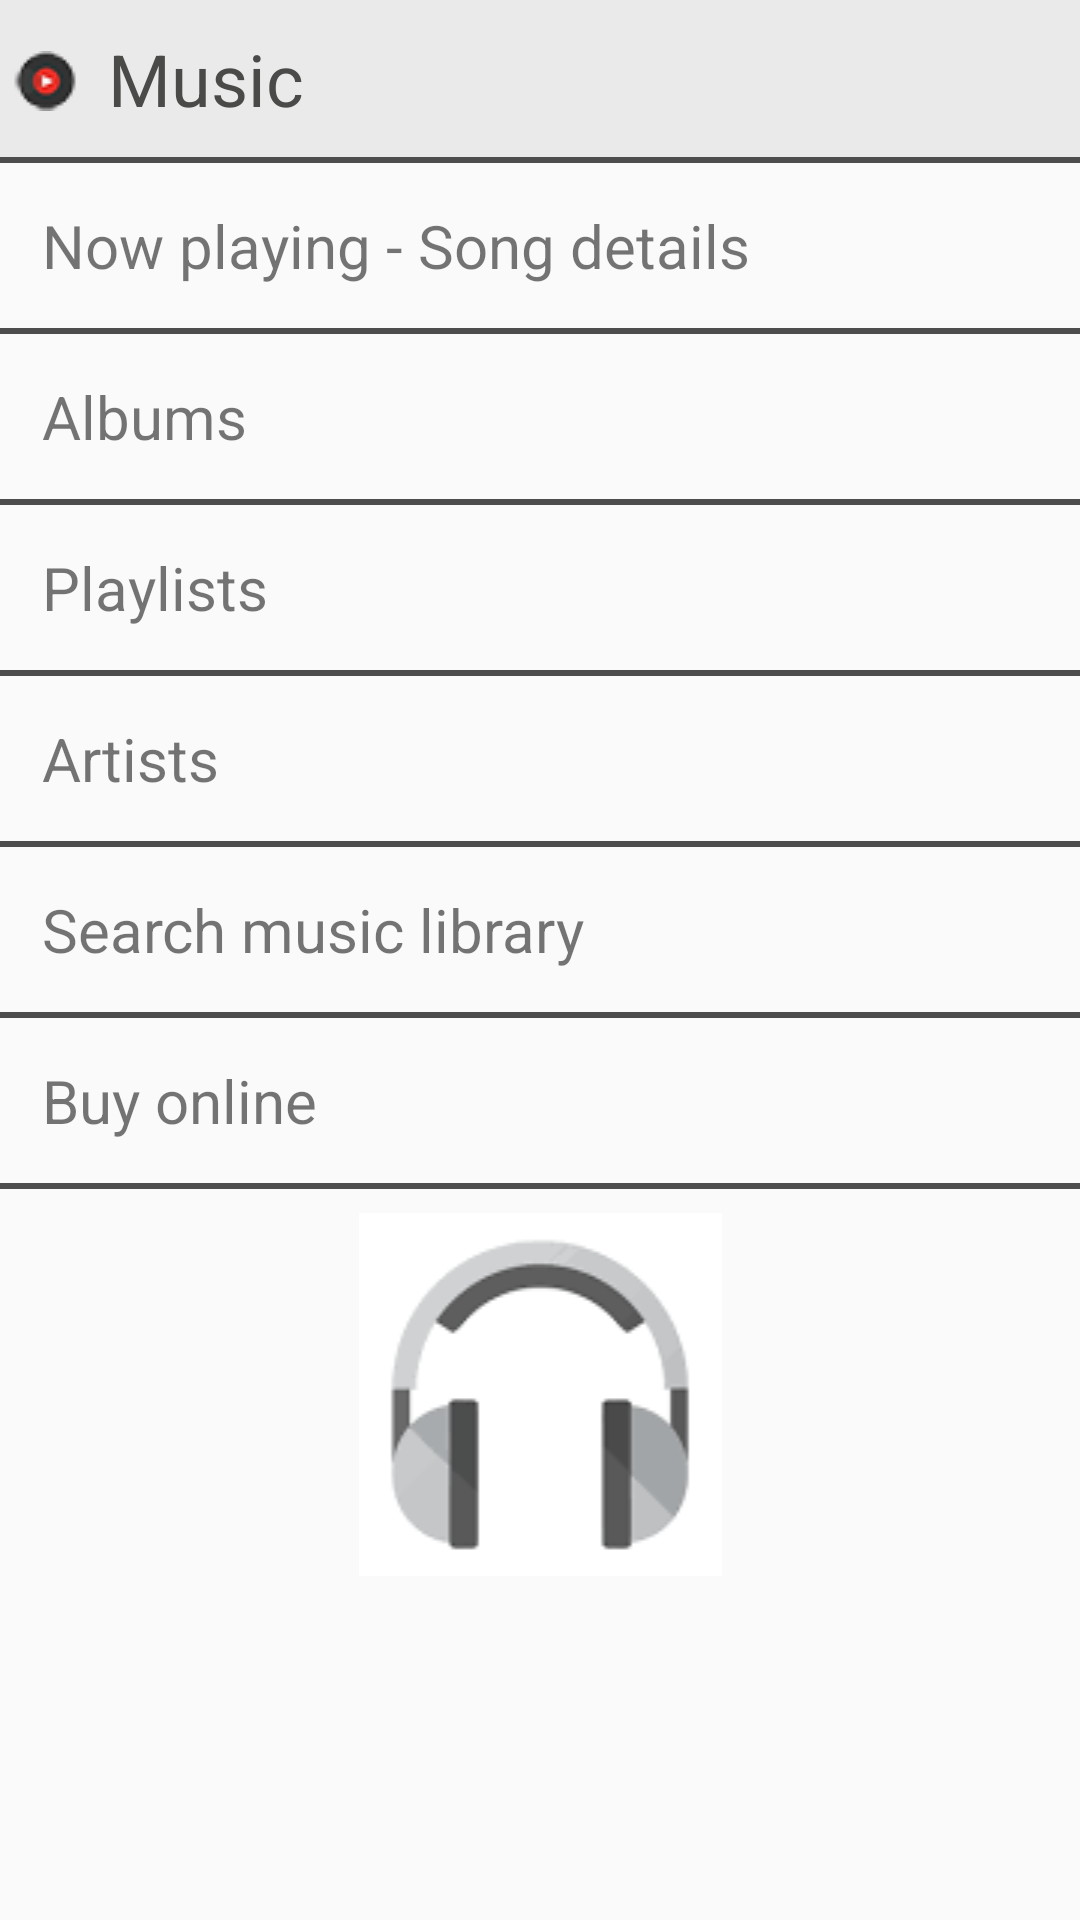

Point at icon controls on the screen. Image size 1080*1920, points as point (x, y).
headset: point (540, 1395)
